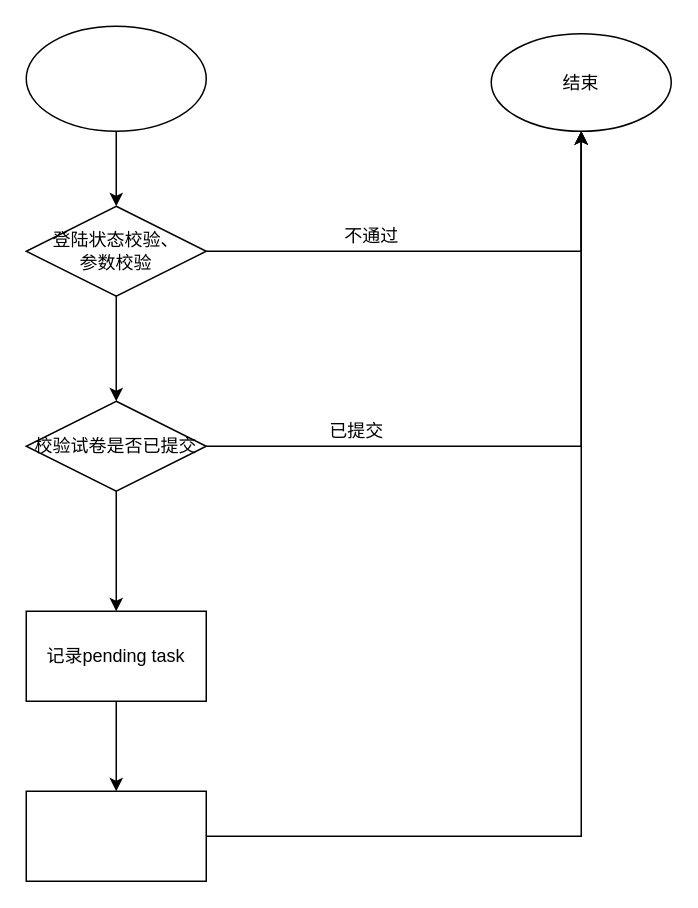
Some shapes in this 698 by 908 pixel diagram are drawn without their labels. Each missing label, with the centre of its shape:
提交任务至MQ: (115,835)
提交试题答案: (115,78)
